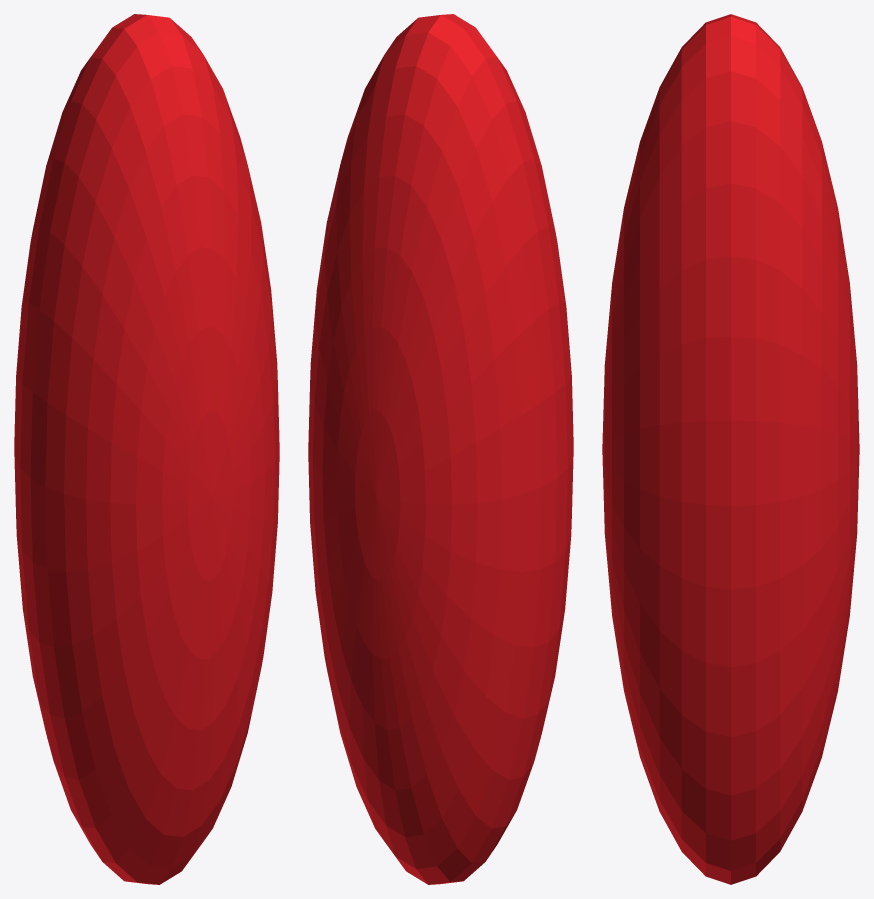
File: Bullet002.fbx
3 views of the same model, side by side, from view 1: azimuth 30°, elevation 25°; view 2: azimuth 150°, elevation 25°; view 3: azimuth 270°, elevation 25° (orthographic).
Parts seen in each view (by area): view 1: 球; view 2: 球; view 3: 球.
Part boxes in pixels (left/top/right/bottom): 球: left=14, top=14, right=279, bottom=884; 球: left=308, top=14, right=573, bottom=884; 球: left=602, top=14, right=859, bottom=884.
Size of the model in its own units: 2.13 by 7.61 by 2.05.
